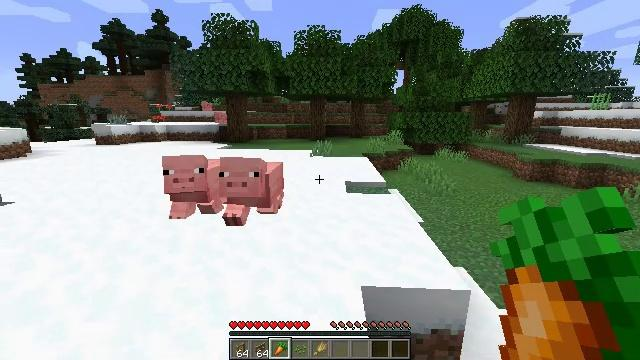pig: (220, 156, 285, 227), (162, 156, 221, 219), (214, 111, 227, 124), (201, 102, 214, 111)
